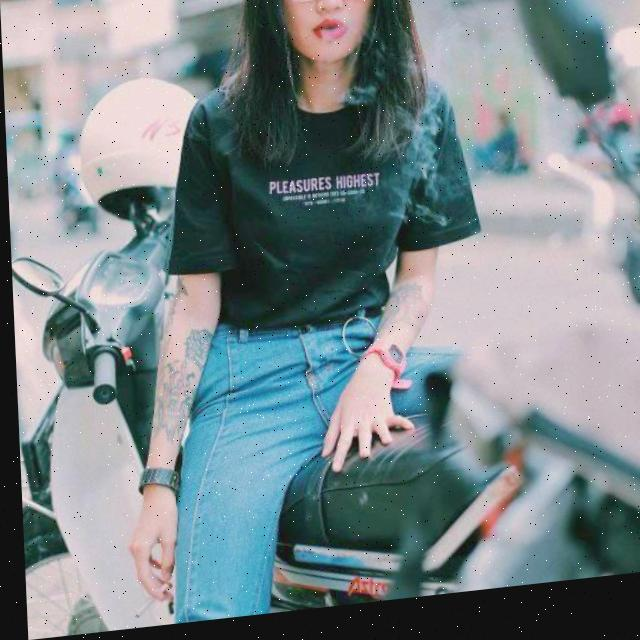cigarette: (127, 586, 166, 622)
